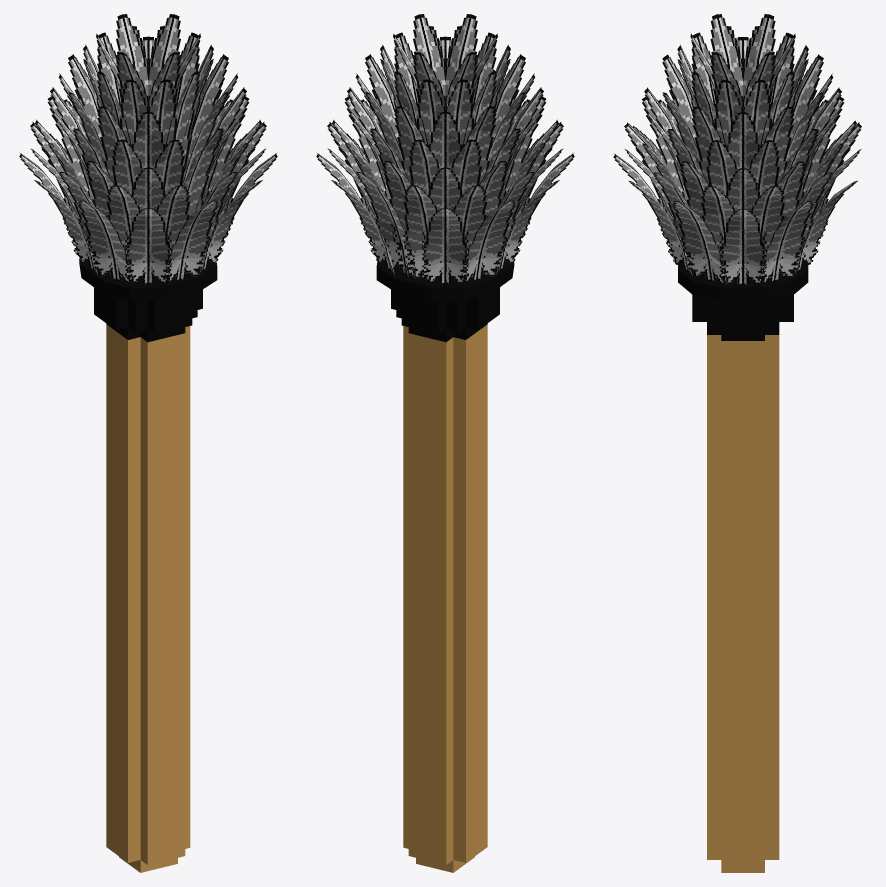
Rendered from Feather Duster.fbx.
The picture shows the model from 3 angles, left to right: view 1: azimuth 30°, elevation 25°; view 2: azimuth 150°, elevation 25°; view 3: azimuth 270°, elevation 25°; orthographic projection.
Visible parts, largest first — view 1: Cube; view 2: Cube; view 3: Cube.
Boxes of the visible parts, <box> form: Cube: <box>19,14,277,872</box>; Cube: <box>316,14,574,872</box>; Cube: <box>613,14,861,872</box>.
Size of the model in its own units: 372 by 1266 by 363.
